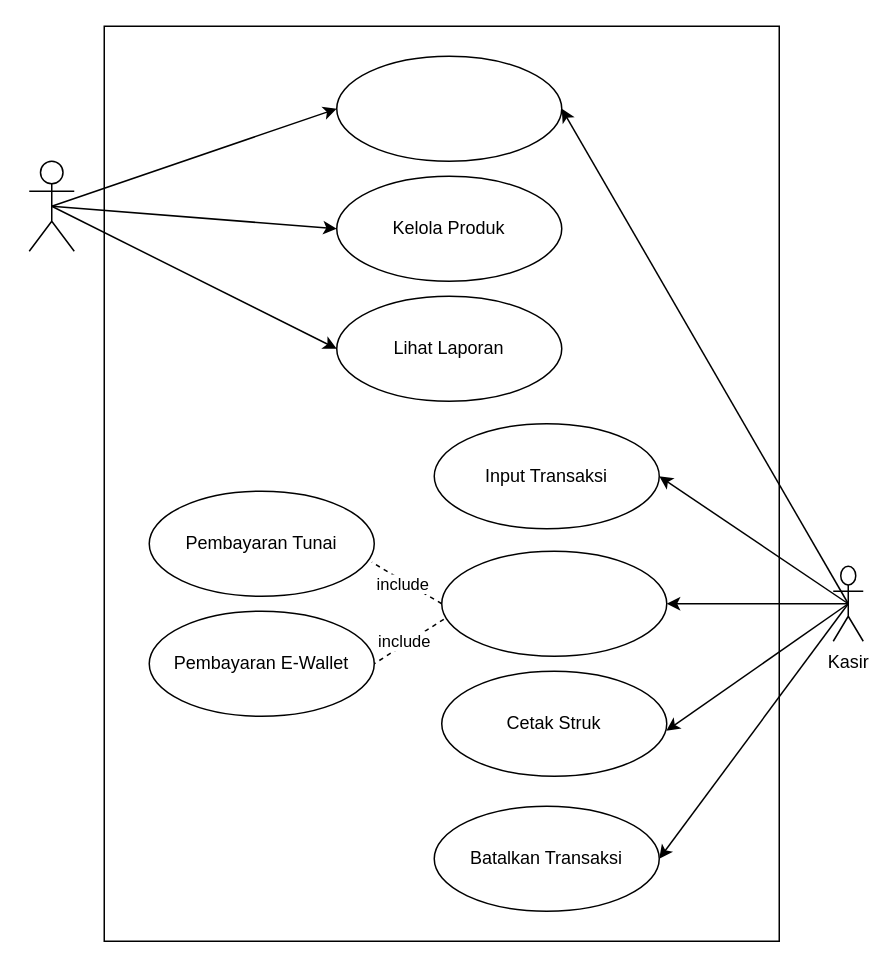
Image size: 894x968. Some labels were removed from this diagram. The centre of each missing label's shape, as x and y in pixels:
Admin: point 51,205
Checkout: point 553,603
Login: point 448,108
